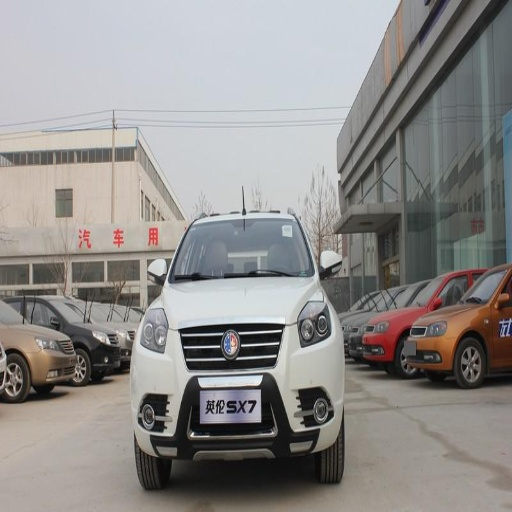front_bumper: (134, 322, 344, 455)
front_glass: (170, 220, 313, 279)
front_left_door: (488, 270, 511, 362)
front_left_light: (299, 302, 335, 346)
front_right_light: (138, 307, 169, 352)
hood: (163, 277, 323, 326)
